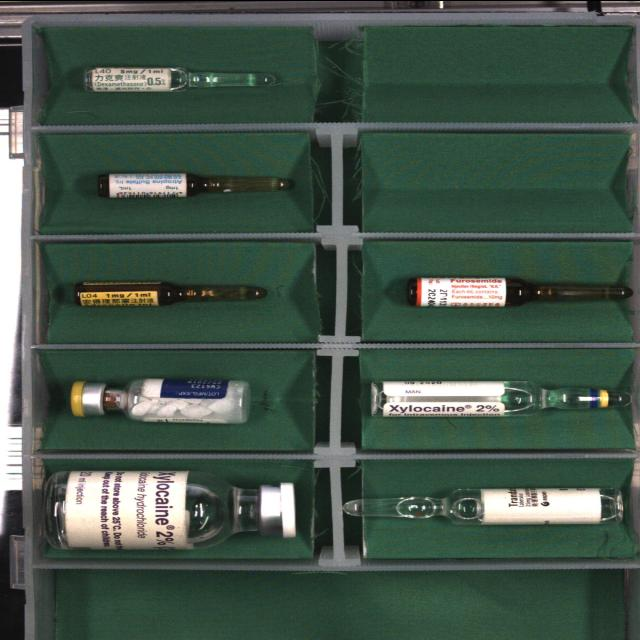Vials: (43, 469, 297, 550), (69, 378, 250, 422)
